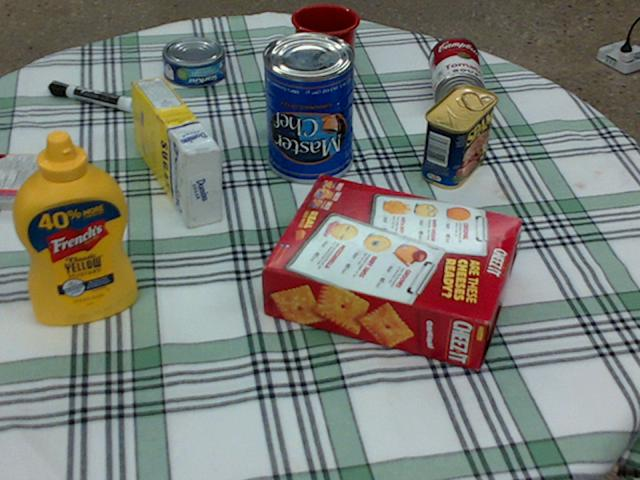cracker_box: (264, 174, 520, 369)
gelatin_box: (0, 154, 56, 210)
large_marker: (50, 80, 135, 111)
master_chef_can: (262, 32, 354, 182)
mug: (292, 3, 361, 84)
mustard_bottle: (12, 130, 136, 322)
potted_meat_can: (421, 85, 496, 188)
sugar_box: (130, 76, 221, 227)
tomato_soup_can: (429, 36, 484, 117)
tuna_fish_can: (163, 36, 226, 85)
